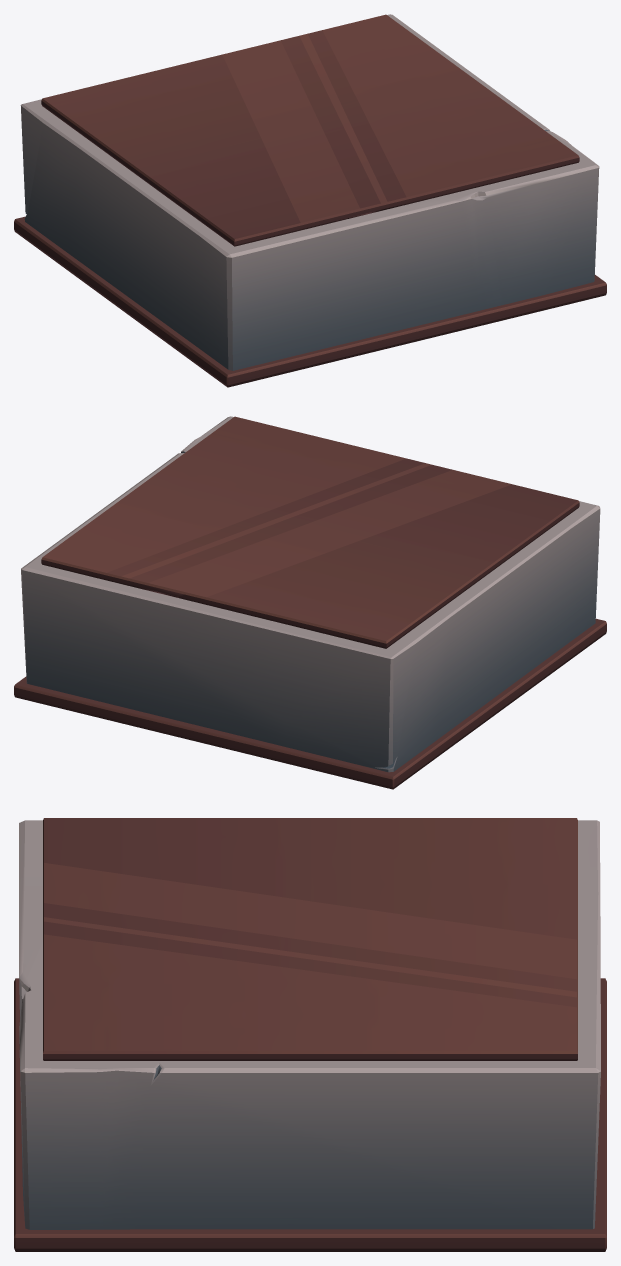
File: DisplayCase_High_3x3_Classic_A.fbx
The picture shows the model from 3 angles, top to bottom: view 1: azimuth 30°, elevation 25°; view 2: azimuth 150°, elevation 25°; view 3: azimuth 270°, elevation 25°; orthographic projection. The views are drawn at different scales.
Visible parts, largest first — view 1: DisplayCase_High_3x3_Classic_A; view 2: DisplayCase_High_3x3_Classic_A; view 3: DisplayCase_High_3x3_Classic_A.
Boxes of the visible parts, box(x1,y1,x2,y2) form: DisplayCase_High_3x3_Classic_A: box(14, 14, 606, 387); DisplayCase_High_3x3_Classic_A: box(14, 416, 606, 789); DisplayCase_High_3x3_Classic_A: box(14, 818, 606, 1251).
Bounding box in the file's own units: 2.91 × 1 × 2.83.
